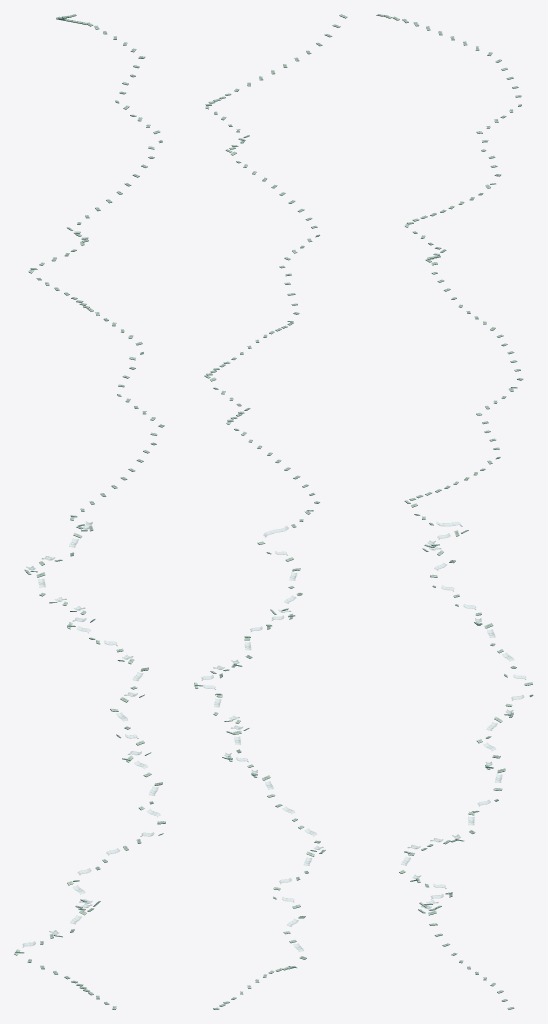
Rendered from C-route-v027-18.glb.
3 renders of one model, left to right at view 1: azimuth 30°, elevation 25°; view 2: azimuth 150°, elevation 25°; view 3: azimuth 330°, elevation 25°, orthographic. The views are drawn at different scales.
Size of the model in its own units: 0.3971 by 3.14 by 0.3499.
5 materials, 1 textured.
